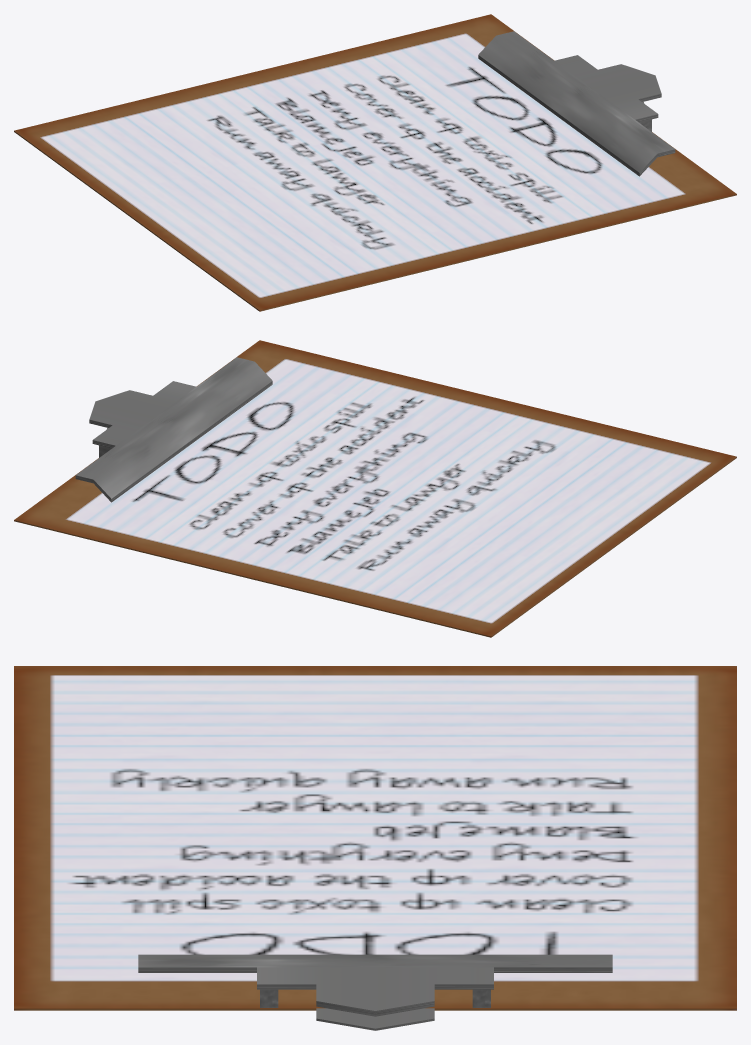
Rendered from Clipboard1.FBX.
3 views of the same model, one above another, from view 1: azimuth 30°, elevation 25°; view 2: azimuth 150°, elevation 25°; view 3: azimuth 270°, elevation 25° (orthographic). The views are drawn at different scales.
Visible parts, largest first — view 1: Box001, Box002; view 2: Box001, Box002; view 3: Box001, Box002, Box003.
Boxes of the visible parts, <box> form: Box001: <box>14,14,736,311</box>; Box002: <box>478,31,675,176</box>; Box001: <box>14,340,736,637</box>; Box002: <box>75,357,272,502</box>; Box001: <box>14,666,736,1010</box>; Box002: <box>138,954,612,1016</box>; Box003: <box>316,1008,434,1030</box>.
Size of the model in its own units: 1.11 by 0.0408 by 0.9111.
1 material, 1 textured.
